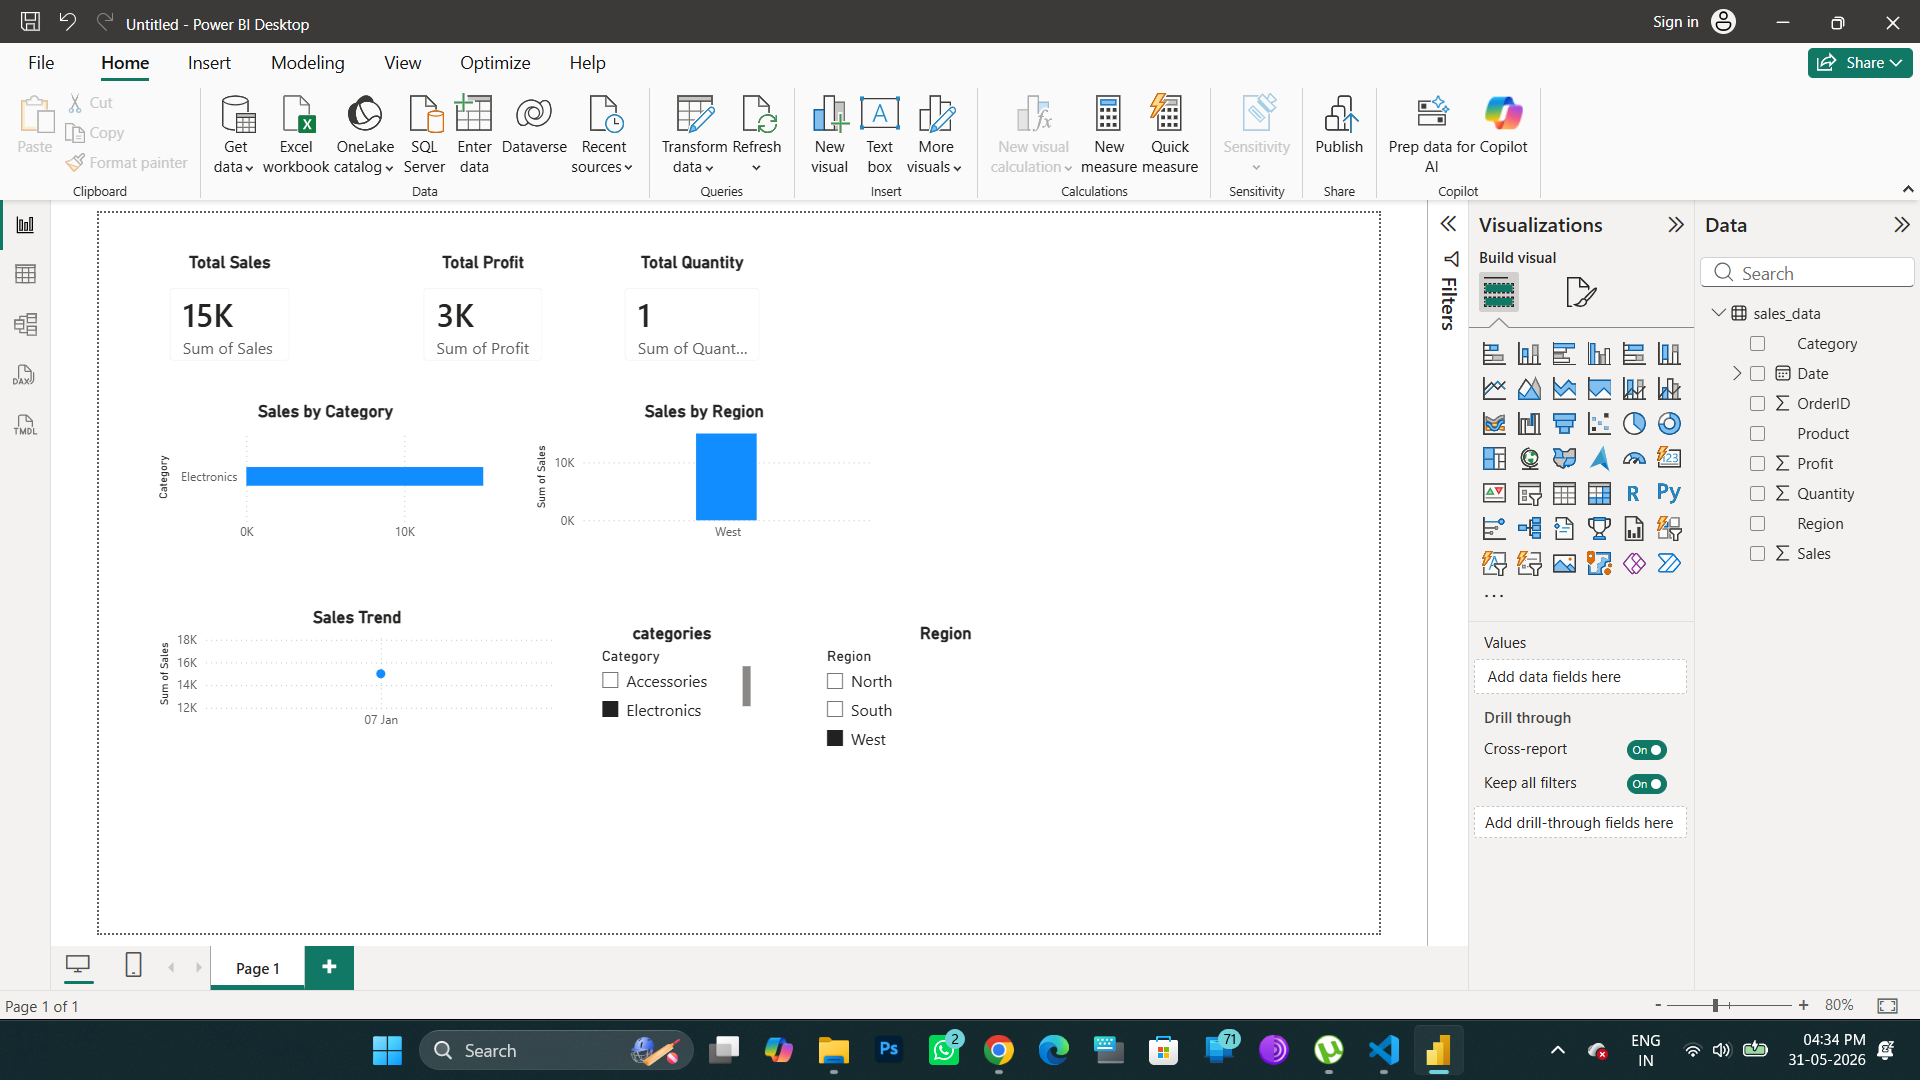

What the dashboard file says about the page in this screenshot:
{"tool":"powerbi","page":{"name":"Page 1","canvas":[1280,720],"ordinal":0},"visuals":[{"type":"cardVisual","title":"Total Sales","fields":{"Data":["Sum(sales_data.Sales)"]},"box":[54.3,38.6,154.3,127.1],"z":0},{"type":"cardVisual","title":"Total Profit","fields":{"Data":["Sum(sales_data.Profit)"]},"box":[307.9,38.6,153.6,127.1],"z":1000},{"type":"cardVisual","title":"Total Quantity","fields":{"Data":["Sum(sales_data.Quantity)"]},"box":[509.3,38.6,169.3,127.1],"z":2000},{"type":"clusteredBarChart","title":"Sales by Category","fields":{"Y":["Sum(sales_data.Sales)"],"Category":["sales_data.Category"]},"box":[54.3,187.9,345.7,150],"z":3000},{"type":"clusteredColumnChart","title":"Sales by Region","fields":{"Category":["sales_data.Region"],"Y":["Sum(sales_data.Sales)"]},"box":[432.1,187.9,345.7,150],"z":4000},{"type":"lineChart","title":"Sales Trend","fields":{"Y":["Sum(sales_data.Sales)"],"Category":["sales_data.Date.Variation.Date Hierarchy.Year","sales_data.Date.Variation.Date Hierarchy.Quarter","sales_data.Date.Variation.Date Hierarchy.Month","sales_data.Date.Variation.Date Hierarchy.Day"]},"box":[55,393.8,406.2,131.2],"z":5000},{"type":"slicer","title":"categories","fields":{"Values":["sales_data.Category"]},"box":[490,410,166.2,100],"z":5001},{"type":"slicer","title":"Region","fields":{"Values":["sales_data.Region"]},"box":[715,410,263.8,192.5],"z":5002}]}

Visuals, with their boxes on the page's 1280x720 design canvas (x1, y1, x2, y2). These are canvas units, not pixel positions in the 1920x1080 screenshot, which may show the page scaled, cropped or inside an application window:
"Total Sales" cardVisual: rect(54, 39, 209, 166)
"Total Profit" cardVisual: rect(308, 39, 462, 166)
"Total Quantity" cardVisual: rect(509, 39, 679, 166)
"Sales by Category" clusteredBarChart: rect(54, 188, 400, 338)
"Sales by Region" clusteredColumnChart: rect(432, 188, 778, 338)
"Sales Trend" lineChart: rect(55, 394, 461, 525)
"categories" slicer: rect(490, 410, 656, 510)
"Region" slicer: rect(715, 410, 979, 602)
